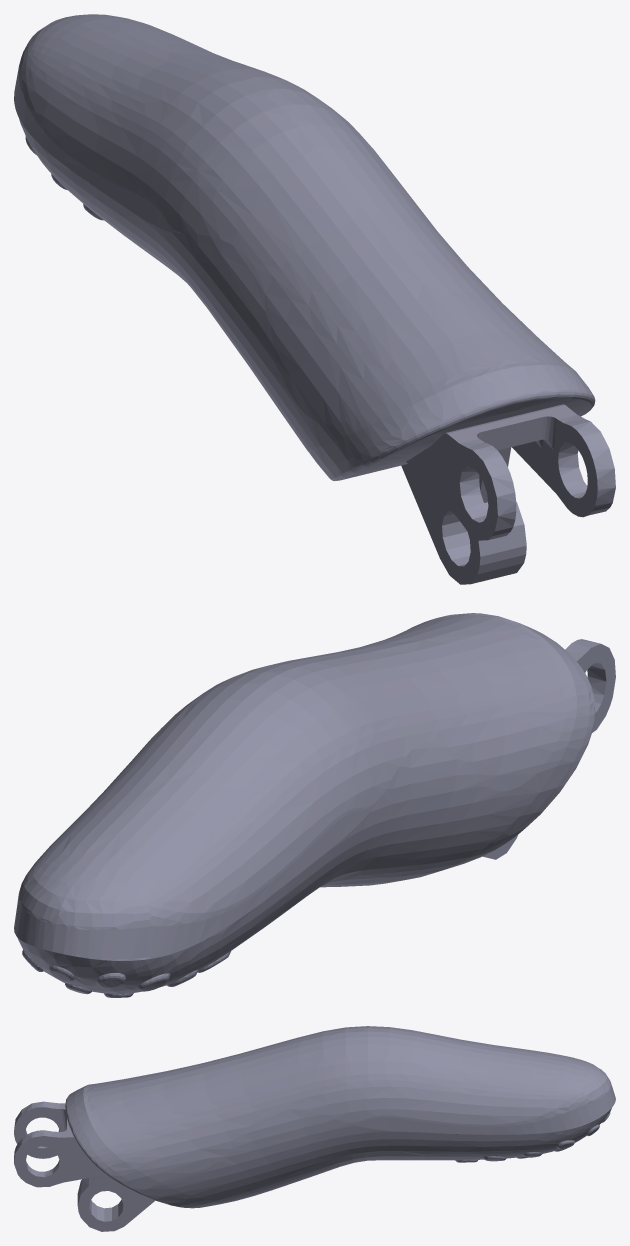
File: hand1_link_2_2_visuals.obj
3 renders of one model, top to bottom at view 1: azimuth 30°, elevation 25°; view 2: azimuth 150°, elevation 25°; view 3: azimuth 270°, elevation 25°, orthographic. The views are drawn at different scales.
Size of the model in its own units: 0.0136 by 0.0187 by 0.0526.
